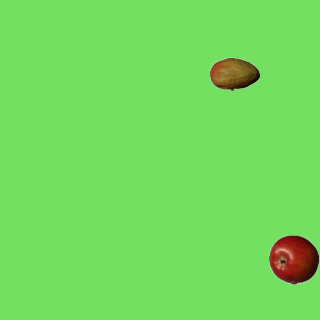Apple Braeburn: (268, 234, 318, 284)
Papaya: (209, 49, 259, 99)
